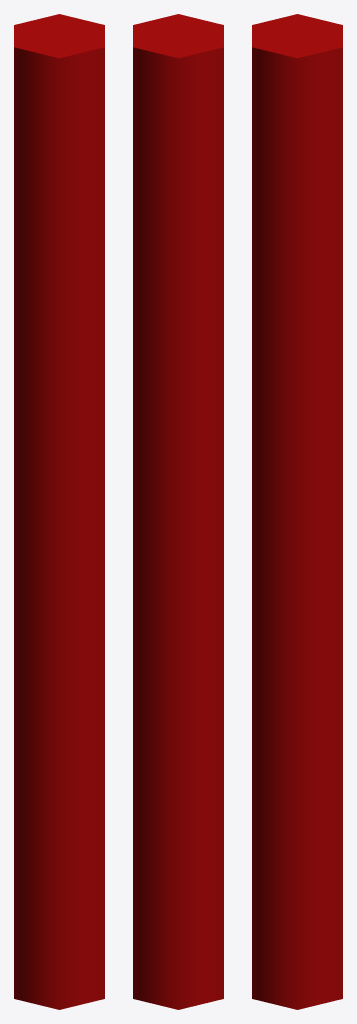
Rendered from MVP_lever.FBX.
3 renders of one model, left to right at view 1: azimuth 90°, elevation 25°; view 2: azimuth 150°, elevation 25°; view 3: azimuth 270°, elevation 25°, orthographic.
Visible parts, largest first — view 1: MVP_lever; view 2: MVP_lever; view 3: MVP_lever.
Boxes of the visible parts, x1,y1,x2,y2 form: MVP_lever: [14, 14, 104, 1009]; MVP_lever: [133, 14, 223, 1009]; MVP_lever: [252, 14, 342, 1009].
Size of the model in its own units: 0.14 by 1.4 by 0.1212.
